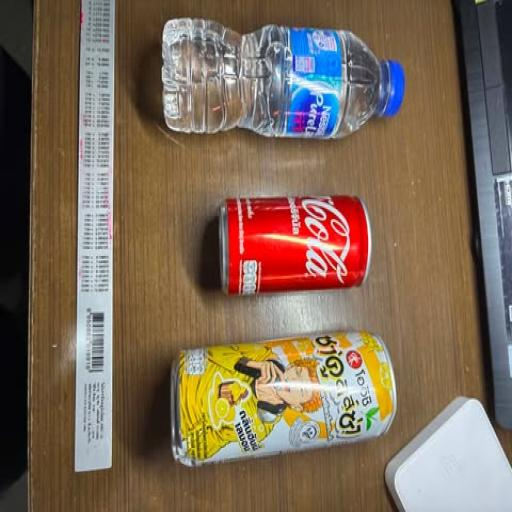bottle: (150, 8, 424, 144)
canned: (167, 322, 411, 474), (190, 181, 393, 302)
